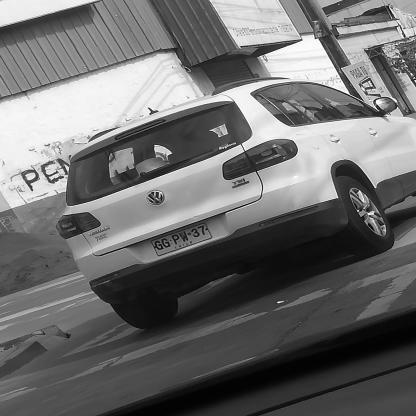Patente: (149, 221, 216, 259)
